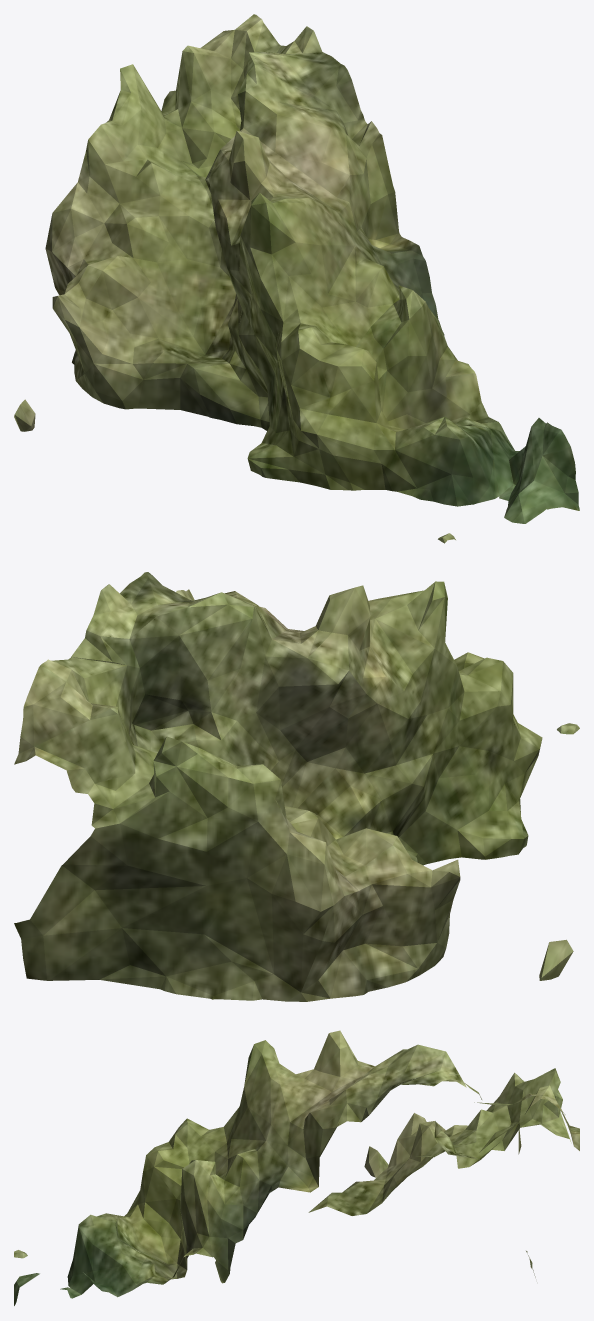
3 views of the same model, one above another, from view 1: azimuth 30°, elevation 25°; view 2: azimuth 150°, elevation 25°; view 3: azimuth 270°, elevation 25° (orthographic). The views are drawn at different scales.
Bounding box in the file's own units: 3.41 × 2.67 × 5.9.
2 materials, 2 textured.
